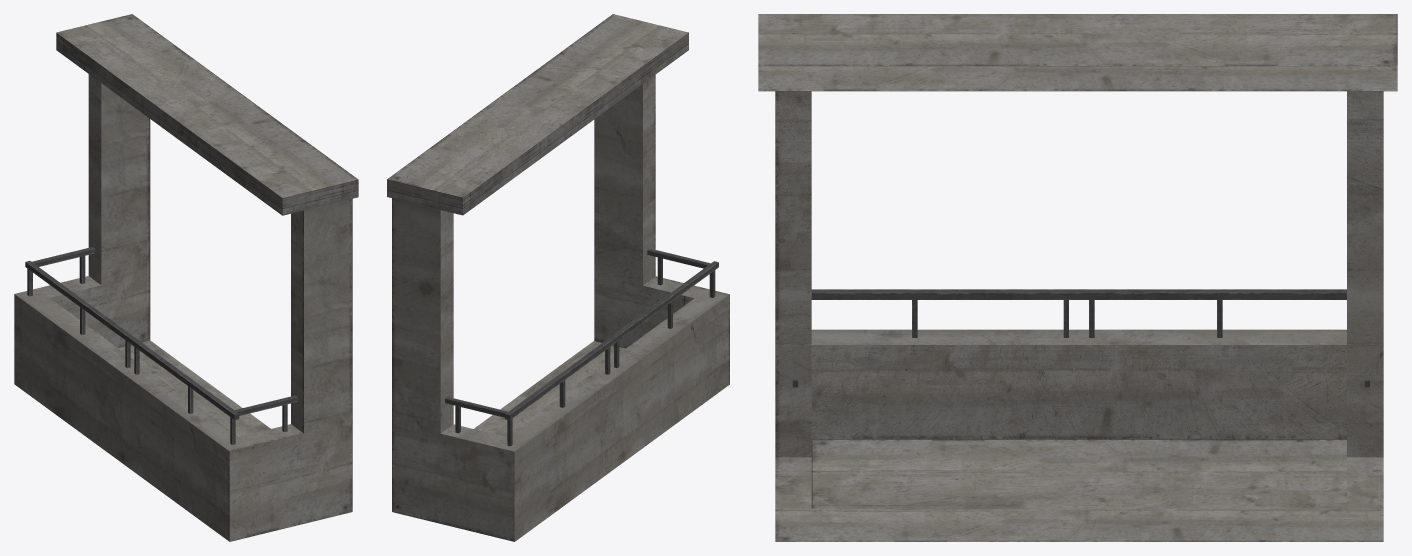
Rendered from CP_Balcony_03.fbx.
The picture shows the model from 3 angles, left to right: view 1: azimuth 30°, elevation 25°; view 2: azimuth 150°, elevation 25°; view 3: azimuth 270°, elevation 25°; orthographic projection. The views are drawn at different scales.
Parts seen in each view (by area): view 1: CP_Balcony_03; view 2: CP_Balcony_03; view 3: CP_Balcony_03.
Boxes of the visible parts, x1=… form: CP_Balcony_03: x1=14, y1=14, x2=358, y2=541; CP_Balcony_03: x1=387, y1=14, x2=729, y2=541; CP_Balcony_03: x1=758, y1=14, x2=1397, y2=541.
Bounding box in the file's own units: 112 × 293 × 357.
